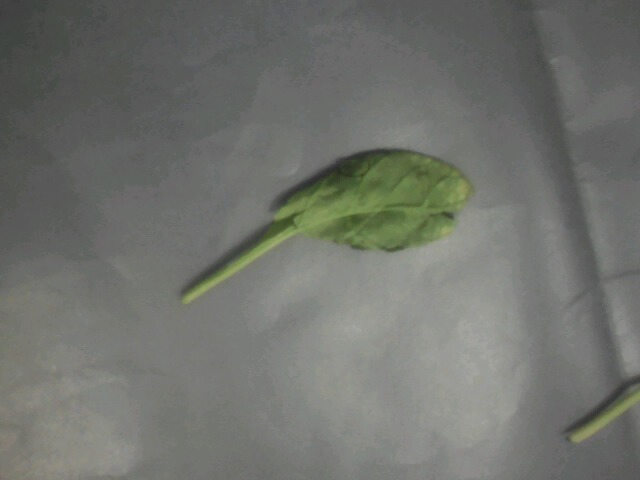yellow: (215, 121, 503, 296)
